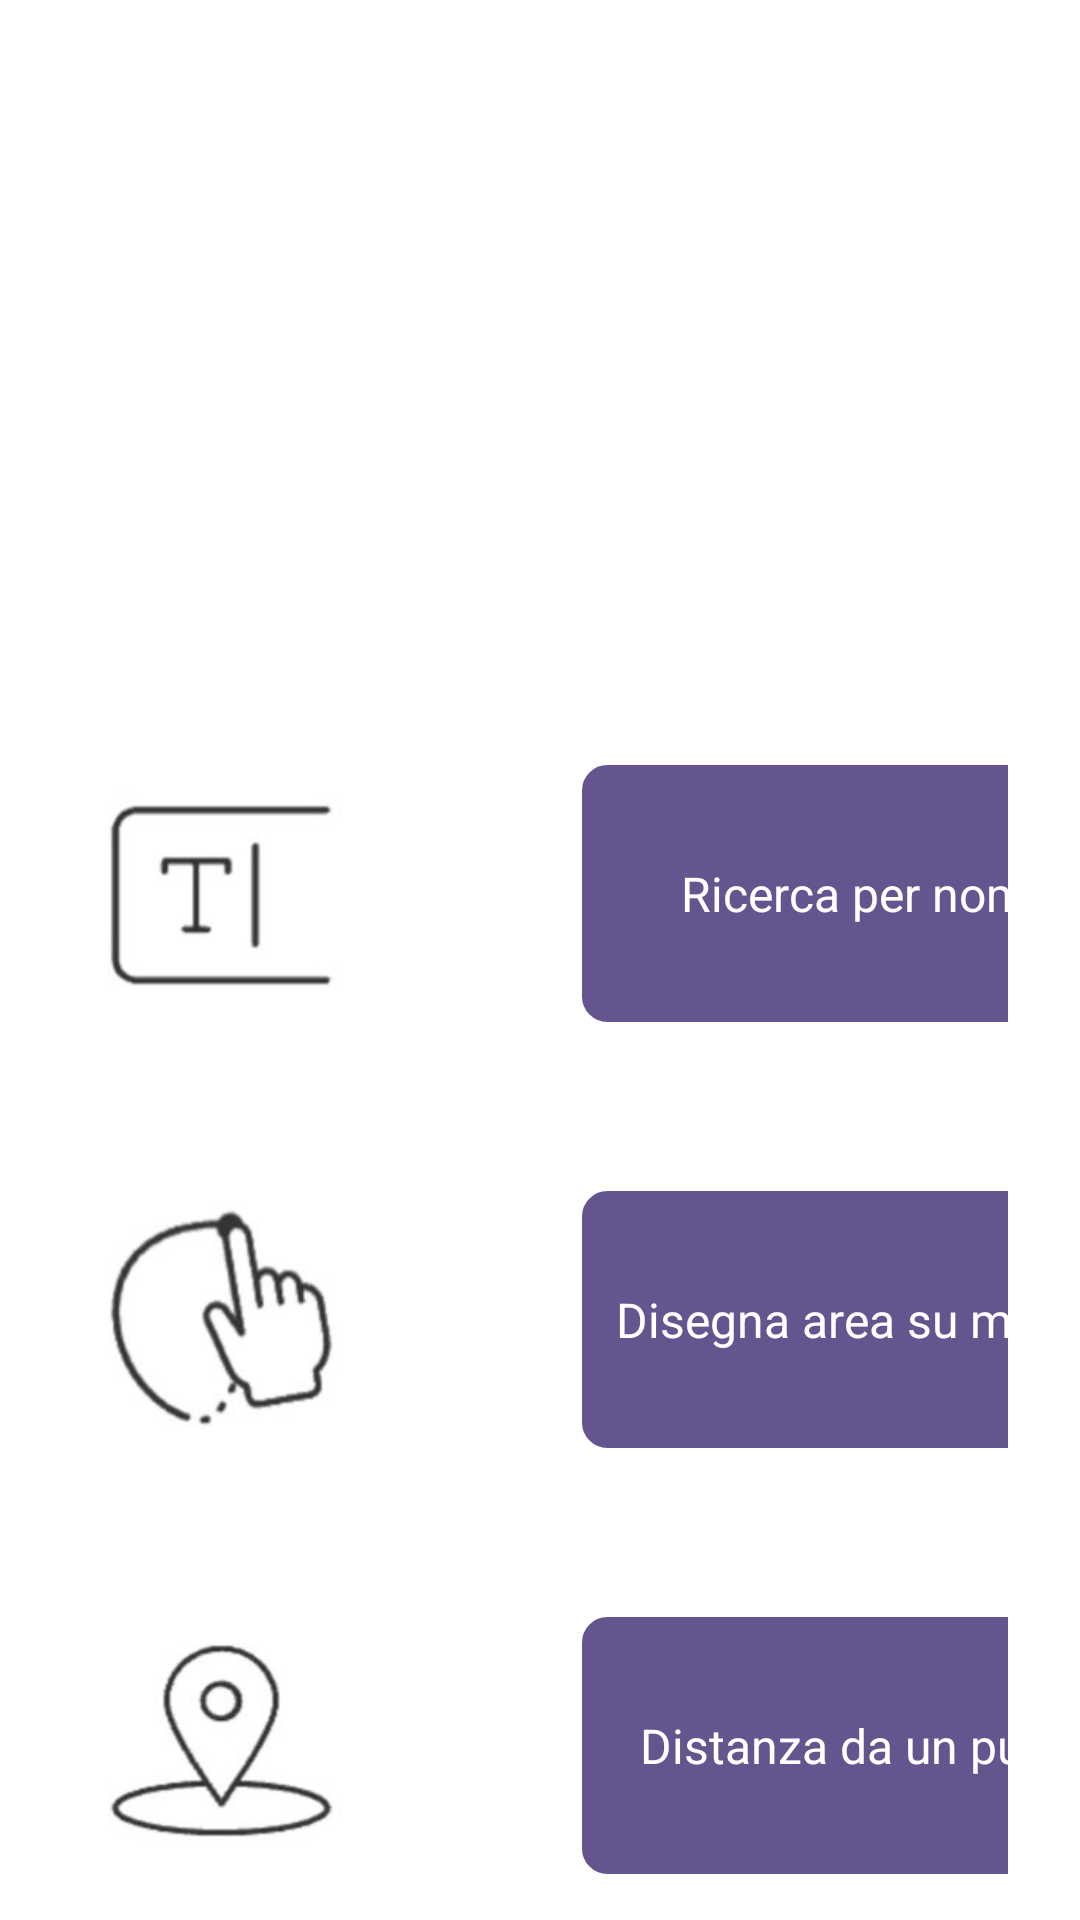

Point at icon controls on the screen. Image size 1080x1920, points as point (x, y).
distance from point: point (221, 1741)
draw area on map: point (221, 1318)
search by name: point (221, 895)
